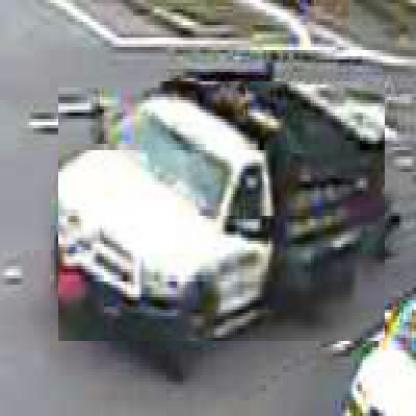truck: (57, 82, 386, 345)
